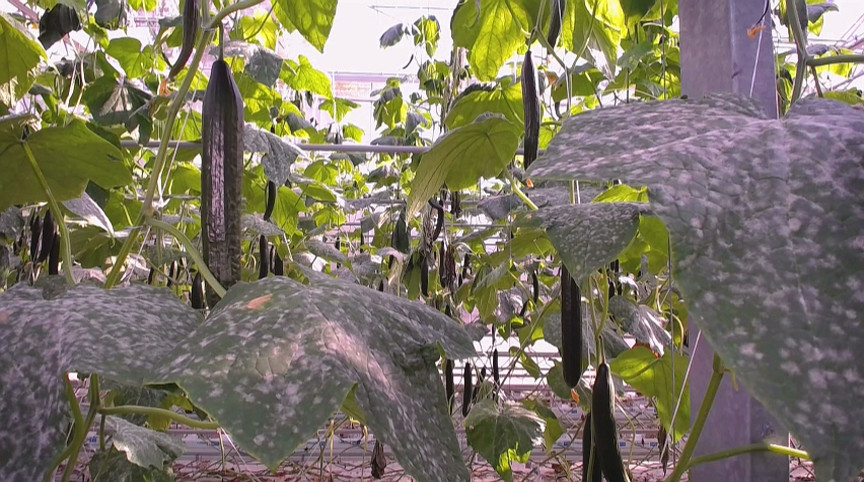cucumber: (200, 60, 243, 302), (592, 363, 634, 482), (560, 260, 583, 387), (521, 51, 542, 170), (40, 209, 57, 263), (261, 179, 278, 221), (461, 362, 473, 417), (258, 234, 269, 282)
